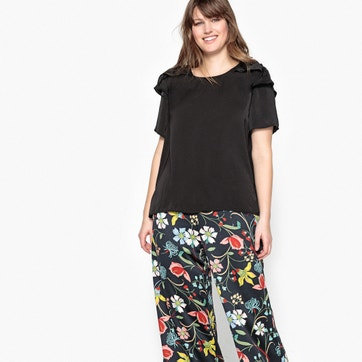C_W_pants: (149, 211, 288, 362)
S_short blouse: (146, 55, 282, 218)
